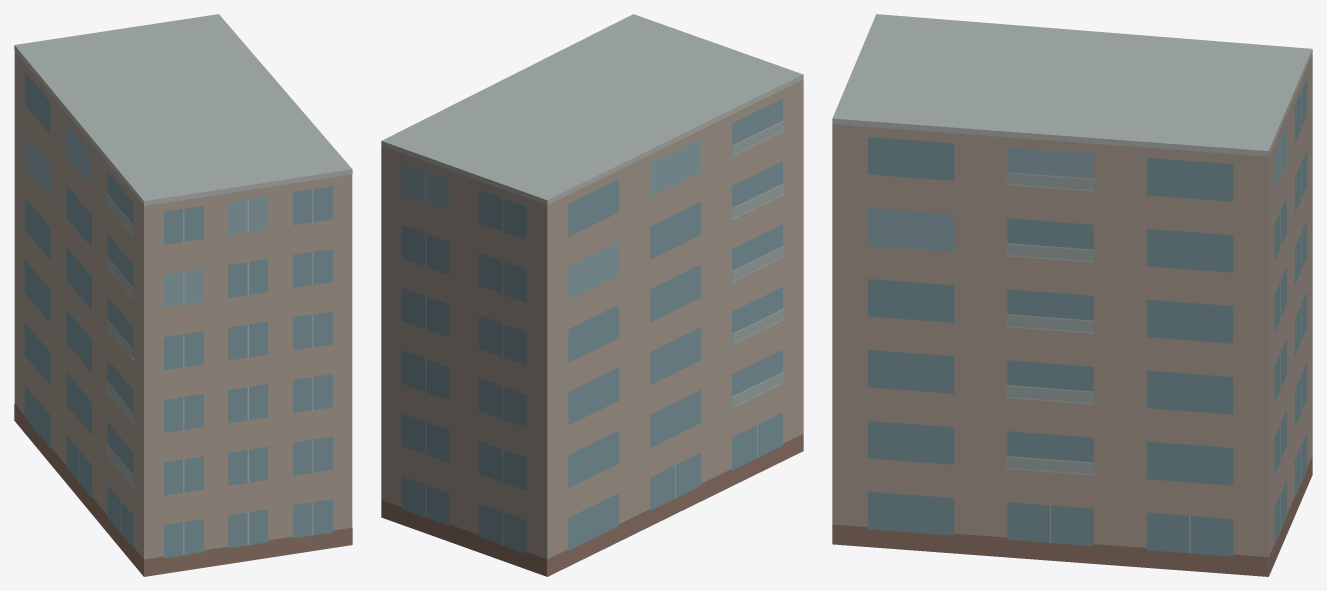
Rendered from survey-upis-32702638.glb.
3 renders of one model, left to right at view 1: azimuth 30°, elevation 25°; view 2: azimuth 150°, elevation 25°; view 3: azimuth 270°, elevation 25°, orthographic. The views are drawn at different scales.
Parts seen in each view (by area): view 1: survey-upis-32702638.tmp; view 2: survey-upis-32702638.tmp; view 3: survey-upis-32702638.tmp.
Boxes of the visible parts, bbox=[...] form: survey-upis-32702638.tmp: bbox=[14, 14, 352, 576]; survey-upis-32702638.tmp: bbox=[381, 14, 803, 576]; survey-upis-32702638.tmp: bbox=[832, 14, 1312, 576].
Size of the model in its own units: 12.65 by 18.3 by 18.72.
